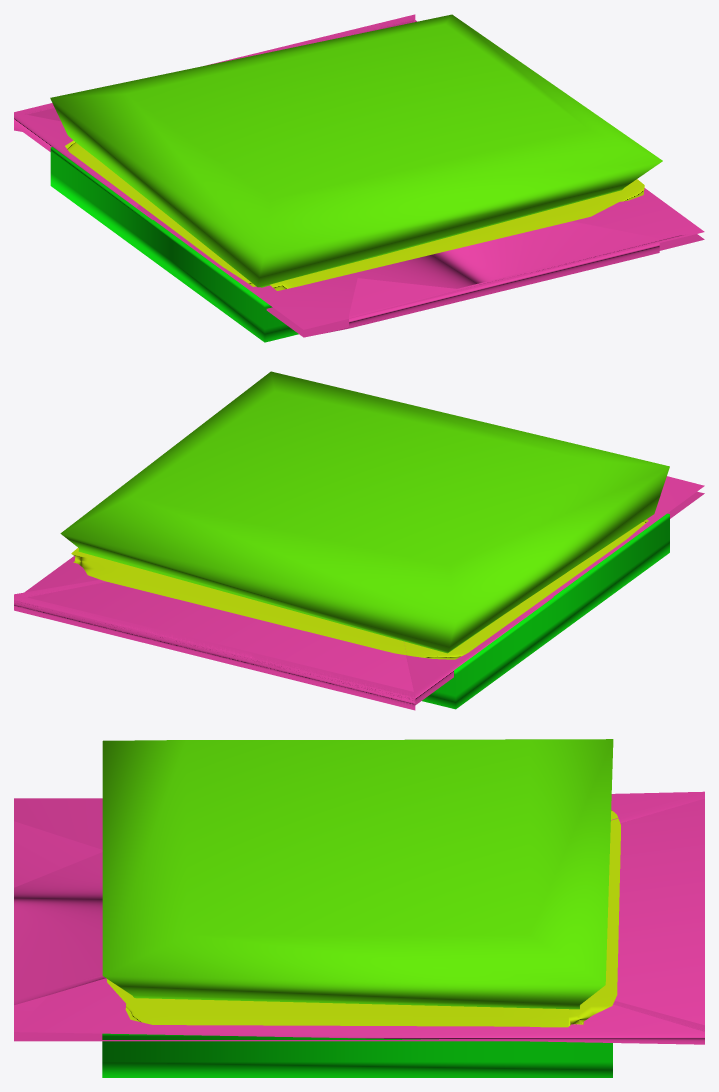
File: hamburger.glb
3 views of the same model, one above another, from view 1: azimuth 30°, elevation 25°; view 2: azimuth 150°, elevation 25°; view 3: azimuth 270°, elevation 25° (orthographic). The views are drawn at different scales.
Parts seen in each view (by area): view 1: Cube.003, Cube.001, Cube, Cube.002; view 2: Cube.003, Cube.001, Cube, Cube.002; view 3: Cube.003, Cube.001, Cube, Cube.002.
Boxes of the visible parts, x1,y1,x2,y2 form: Cube.003: (50,14,662,287); Cube.001: (14,14,704,337); Cube: (50,147,298,342); Cube.002: (65,140,644,290); Cube.003: (60,371,669,653); Cube.001: (14,476,704,710); Cube: (422,513,669,709); Cube.002: (71,519,648,659); Cube.003: (102,739,613,1009); Cube.001: (14,791,704,1044); Cube: (102,1033,612,1077); Cube.002: (107,810,620,1027).
Size of the model in its own units: 9.93 by 2.52 by 12.31.
